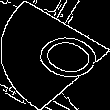O_SE: (8, 22, 102, 88)
